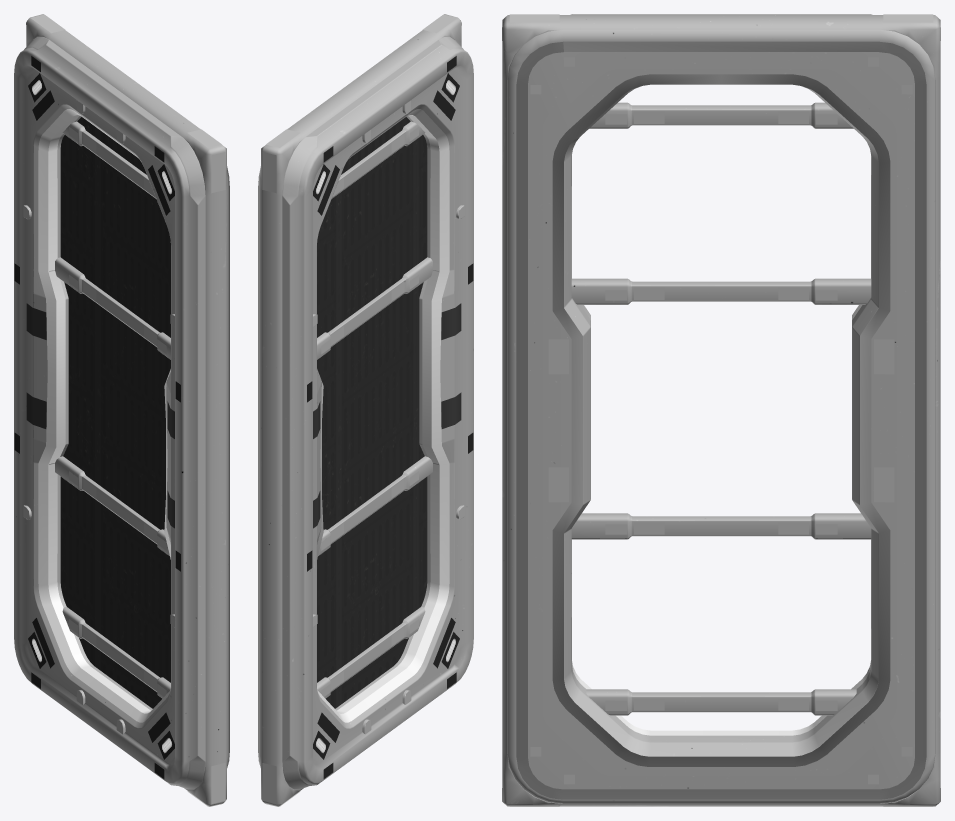
The model's file is SM_Panel_2_Merged.fbx.
3 views of the same model, side by side, from view 1: azimuth 30°, elevation 25°; view 2: azimuth 150°, elevation 25°; view 3: azimuth 270°, elevation 25° (orthographic). The views are drawn at different scales.
Parts seen in each view (by area): view 1: SM_Panel_2_Merged_LOD0; view 2: SM_Panel_2_Merged_LOD0; view 3: SM_Panel_2_Merged_LOD0.
Part boxes in pixels (x1=…): SM_Panel_2_Merged_LOD0: x1=14, y1=14, x2=229, y2=806; SM_Panel_2_Merged_LOD0: x1=258, y1=14, x2=473, y2=806; SM_Panel_2_Merged_LOD0: x1=502, y1=14, x2=940, y2=806.
Bounding box in the file's own units: 29.56 × 205 × 405.
